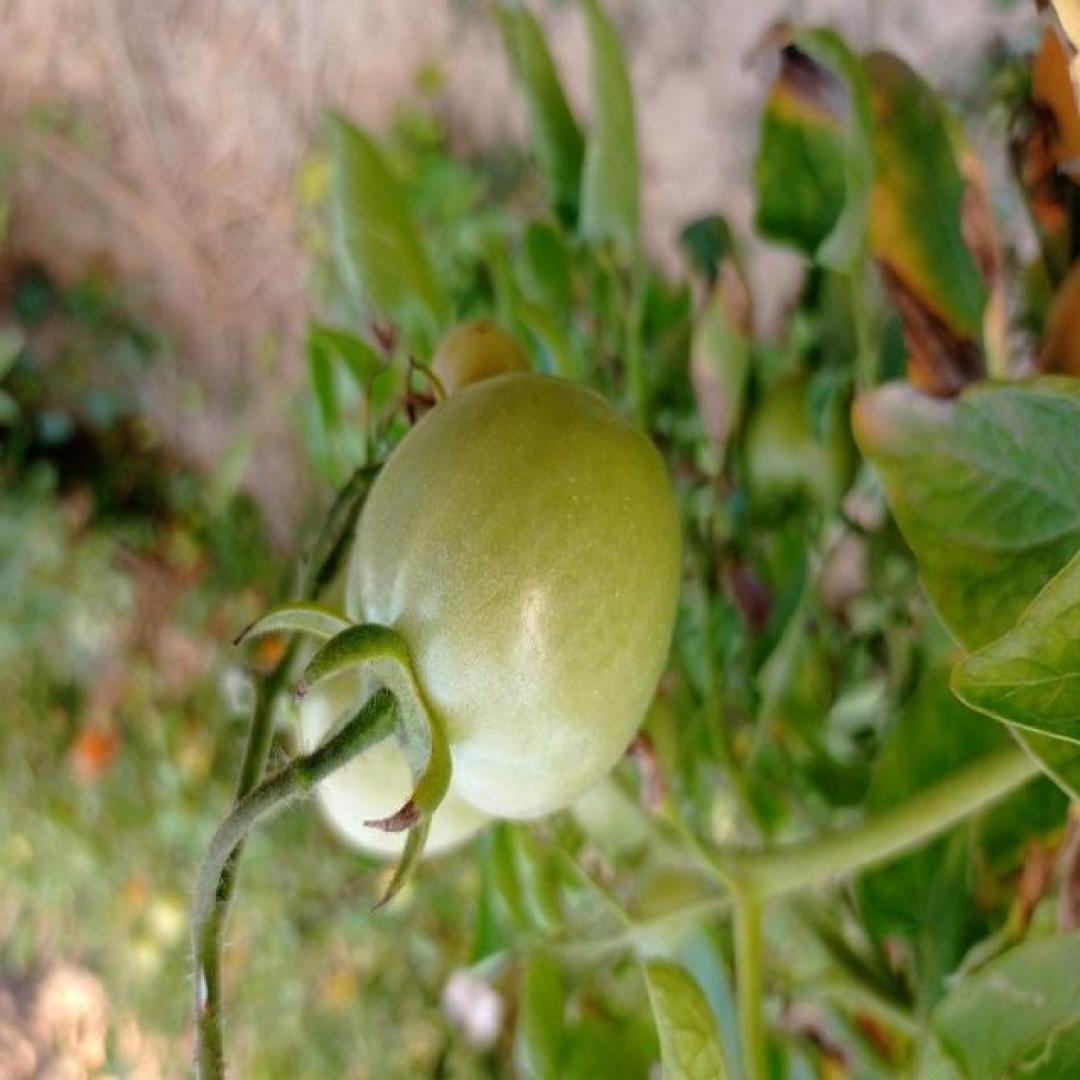mentah: (350, 365, 684, 820)
